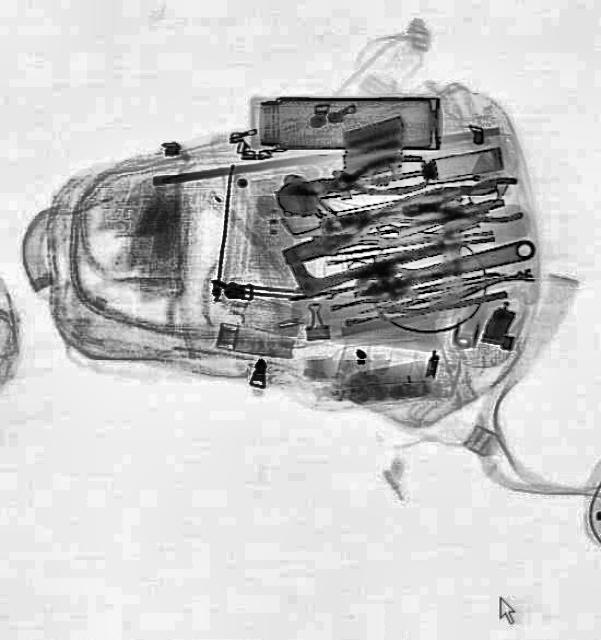Pliers: (280, 148, 428, 214), (398, 172, 522, 234)
Wrench: (350, 226, 538, 308)
